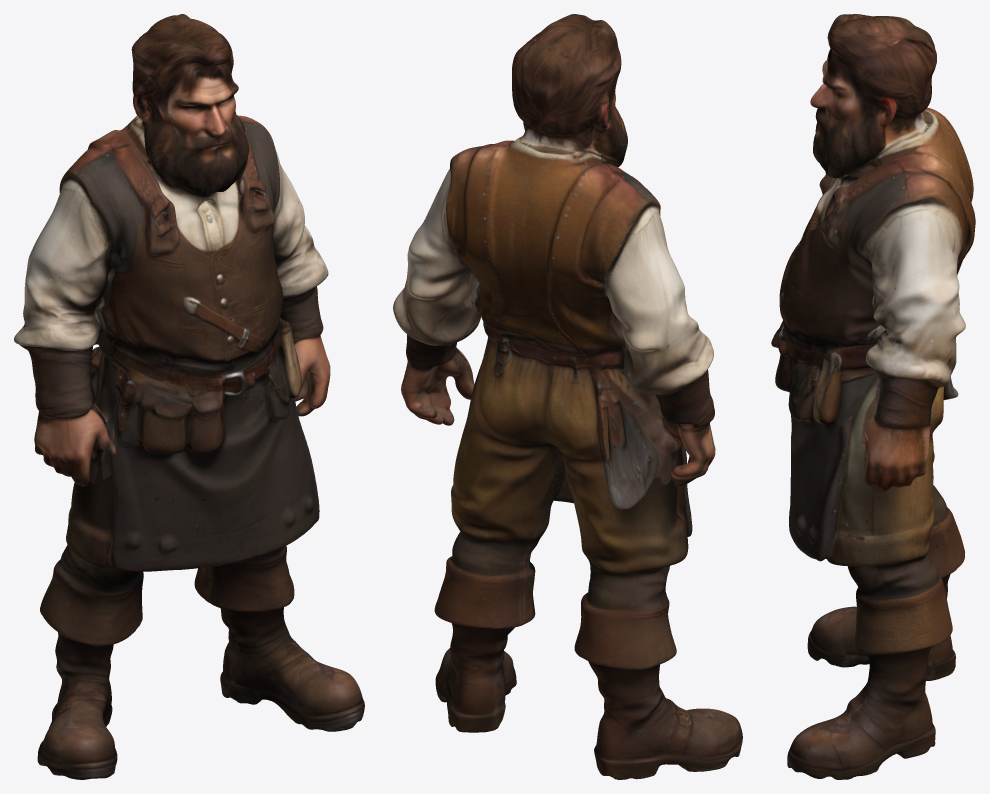
Rendered from Human_Tavern_Keeper_t_1030020341_texture.fbx.
The picture shows the model from 3 angles, left to right: view 1: azimuth 30°, elevation 25°; view 2: azimuth 150°, elevation 25°; view 3: azimuth 270°, elevation 25°; orthographic projection. The views are drawn at different scales.
Parts seen in each view (by area): view 1: Mesh1.0; view 2: Mesh1.0; view 3: Mesh1.0.
Boxes of the visible parts, x1,y1,x2,y2 form: Mesh1.0: [14, 14, 364, 779]; Mesh1.0: [393, 14, 742, 779]; Mesh1.0: [771, 14, 975, 779].
Bounding box in the file's own units: 90.33 × 200 × 53.43.
Materials: 1 (1 with a texture image).
